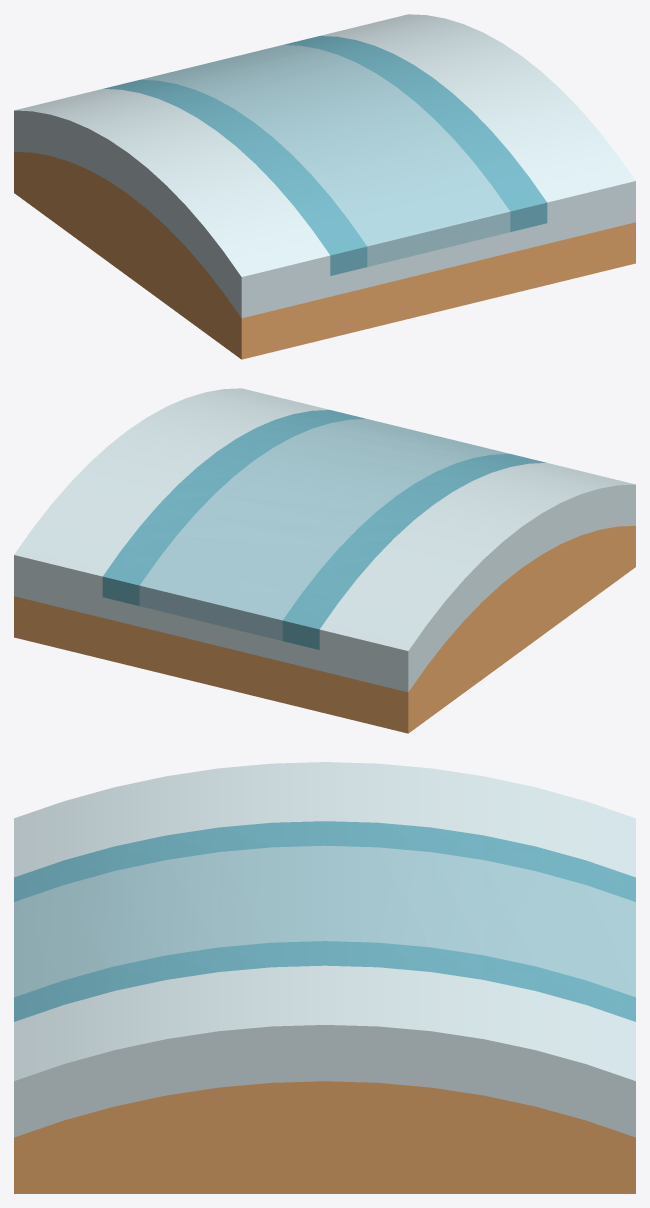
File: snow_tile_bump(+).fbx
3 views of the same model, one above another, from view 1: azimuth 30°, elevation 25°; view 2: azimuth 150°, elevation 25°; view 3: azimuth 270°, elevation 25° (orthographic). The views are drawn at different scales.
Parts seen in each view (by area): view 1: Mesh_1; view 2: Mesh_1; view 3: Mesh_1.
Boxes of the visible parts, x1=… form: Mesh_1: x1=14, y1=14, x2=635, y2=359; Mesh_1: x1=14, y1=388, x2=635, y2=733; Mesh_1: x1=14, y1=762, x2=635, y2=1193.
Bounding box in the file's own units: 100 × 30 × 100.
